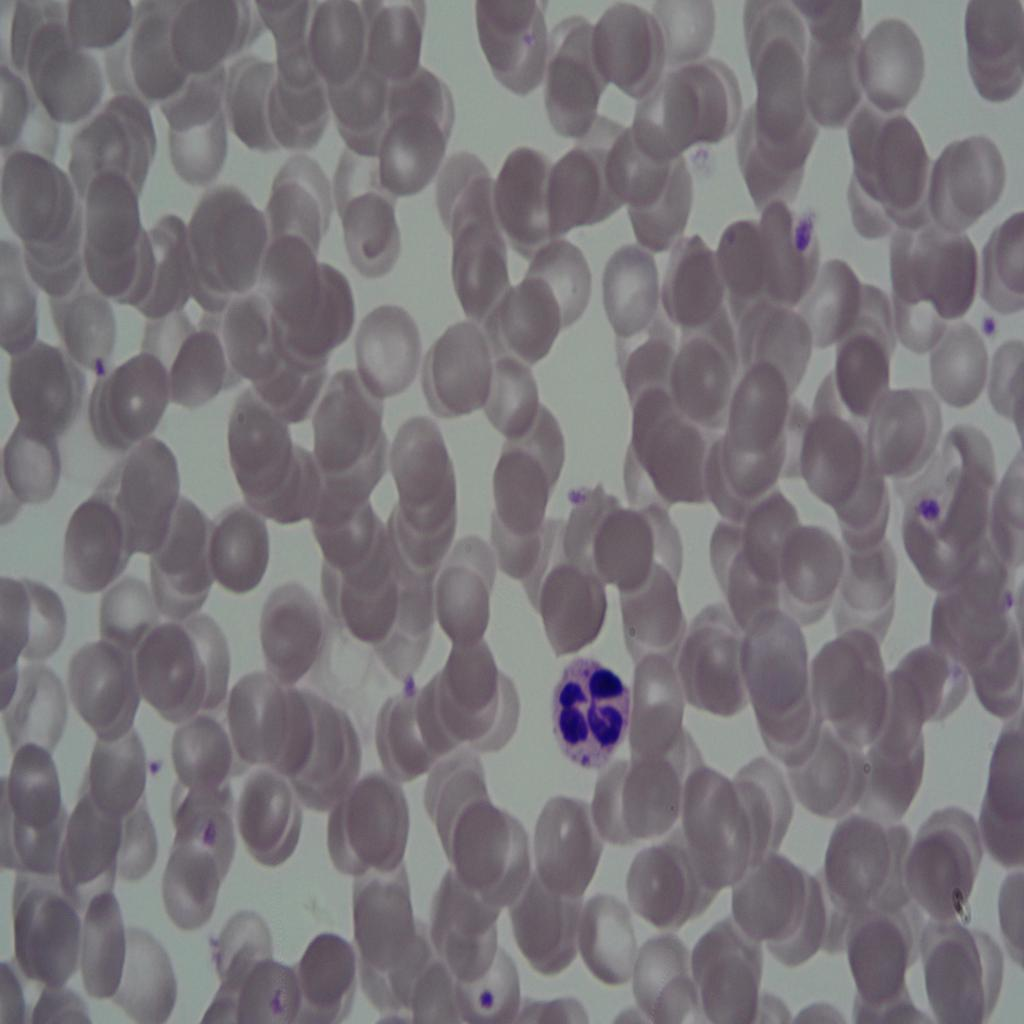Neutrofil: (550, 652, 642, 785)
Platelet: (905, 483, 944, 534), (471, 976, 509, 1024), (141, 744, 173, 794), (792, 205, 816, 267), (977, 297, 1005, 344), (199, 815, 225, 858), (78, 348, 114, 378), (404, 665, 430, 703)
